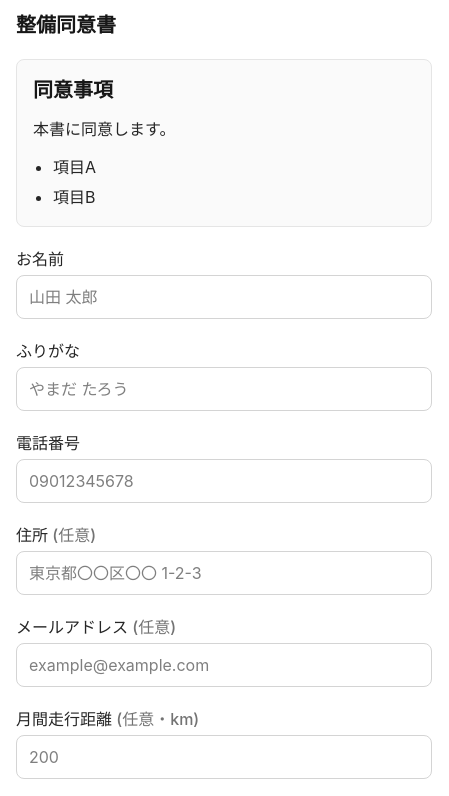
Scenario: App step machine › advances with optional fields left blank (shown as 未入力)
Type "田中 一郎" into the field with placeholder "山田 太郎" at (224, 297), box [16, 275, 432, 319]
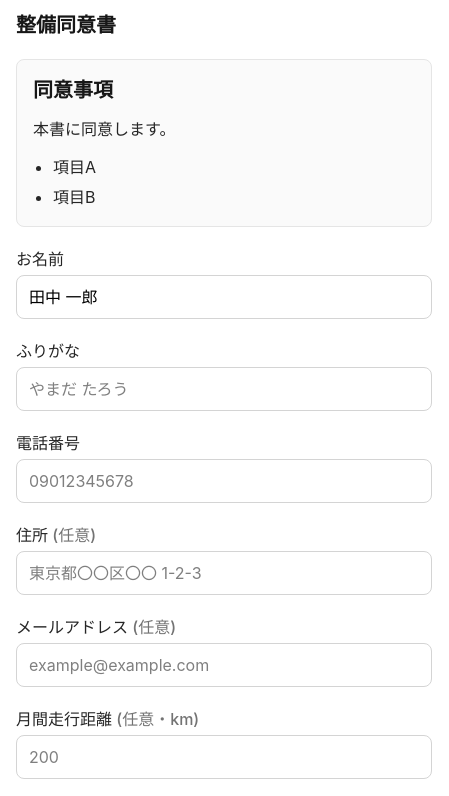
Type "たなか いちろう" into the field with placeholder "やまだ たろう" at (224, 389), box [16, 367, 432, 411]
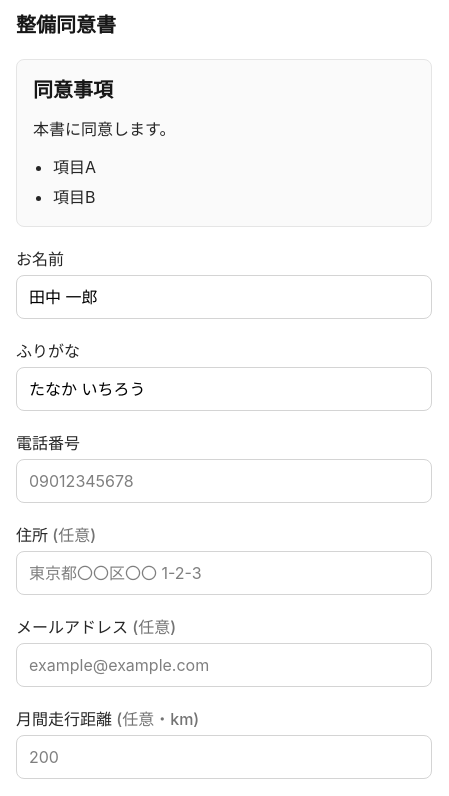
Type "08011112222" into the field with placeholder "09012345678" at (224, 481), box [16, 459, 432, 503]
(page scrolled)
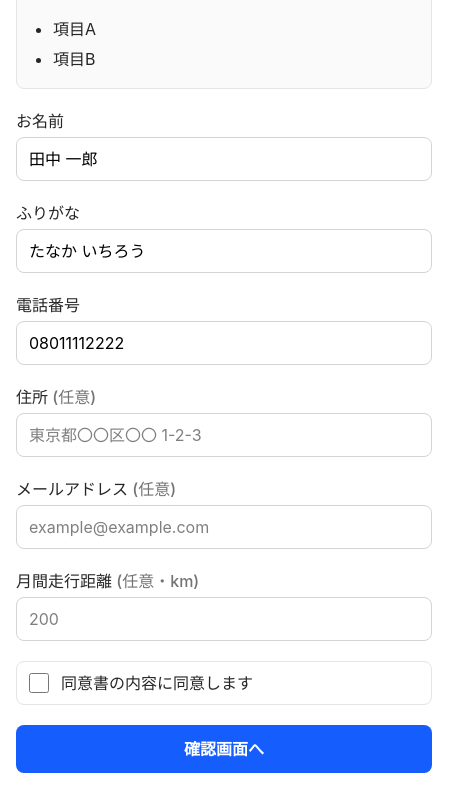
Click the checkbox at (39, 683), box [29, 673, 49, 693]
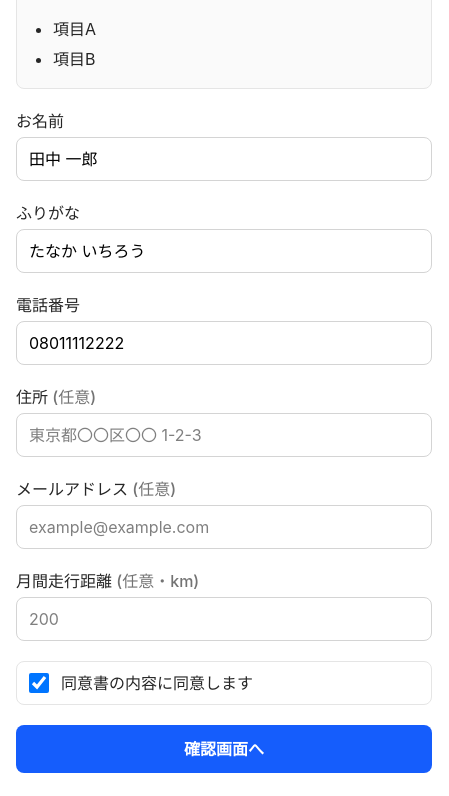
Click the button "確認画面へ" at (224, 749), box [16, 725, 432, 773]
(page scrolled)
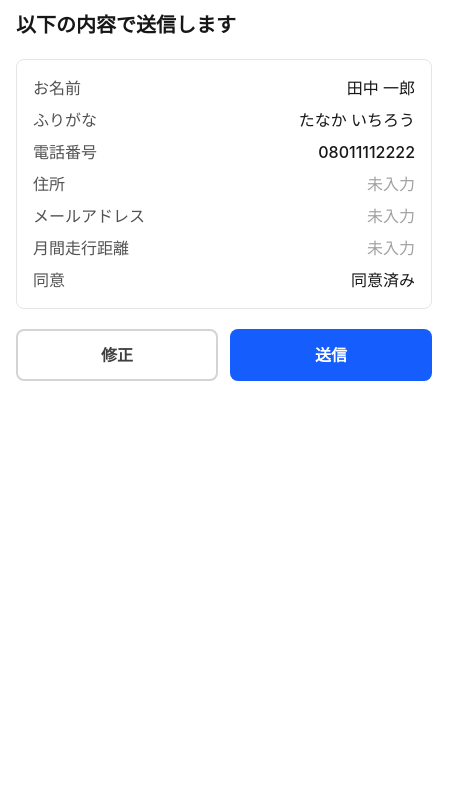
Expected: the heading "以下の内容で送信します" is shown, [16, 13, 236, 37]
